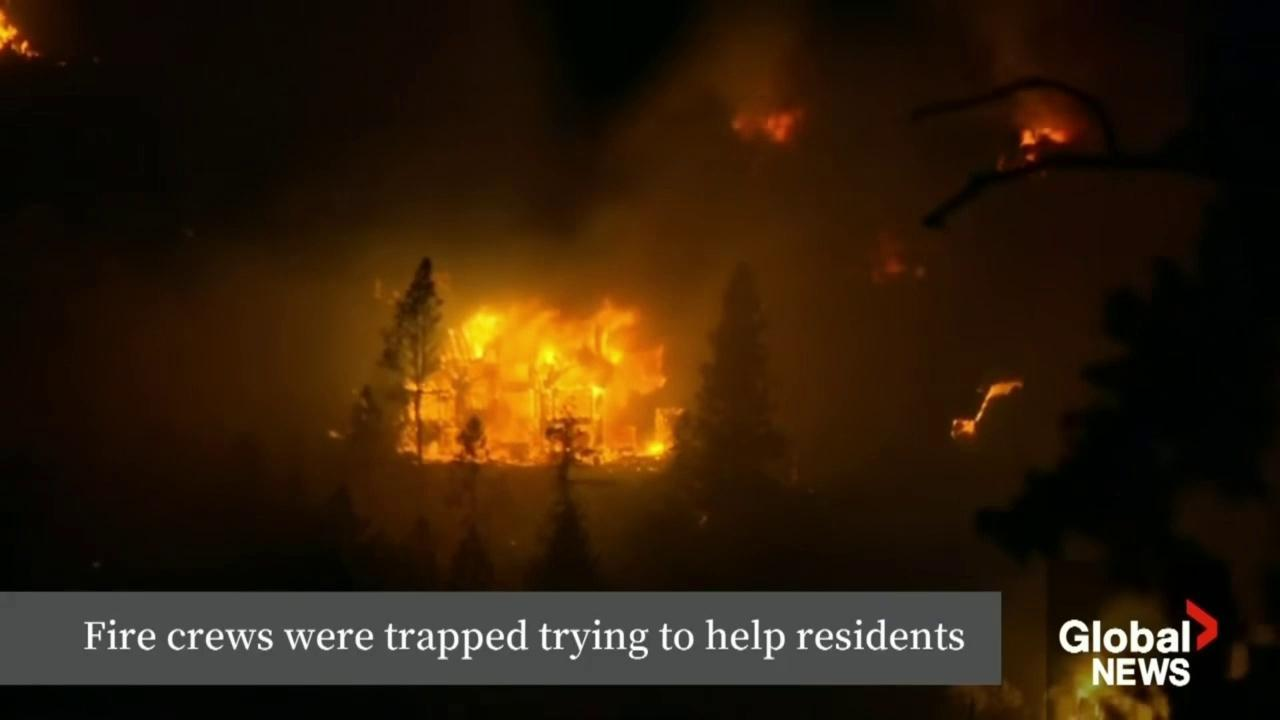fire: (392, 284, 701, 479), (946, 375, 1022, 439), (727, 103, 810, 152), (1015, 118, 1081, 166), (0, 0, 49, 62), (869, 252, 909, 282)
smoke: (61, 0, 1280, 589)
